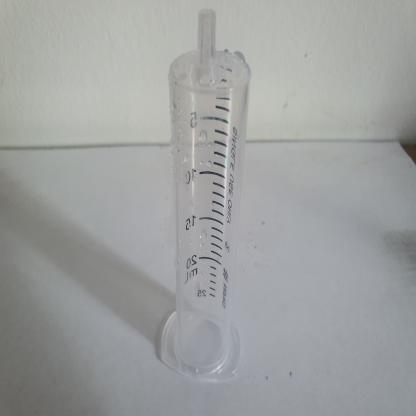wet: (156, 10, 252, 377)
